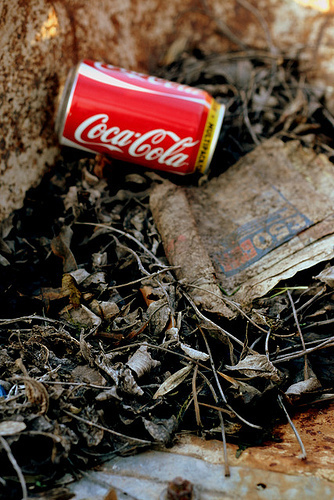litter: (154, 138, 334, 300), (55, 58, 226, 176)
